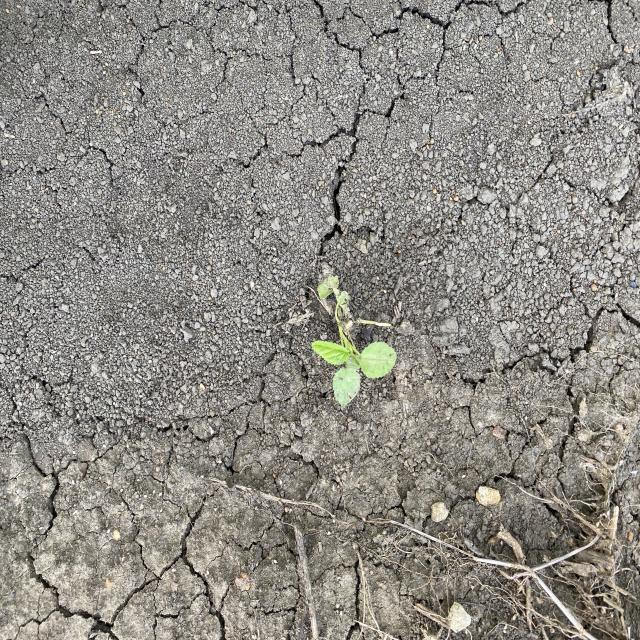PricklySida: (308, 271, 399, 412)
